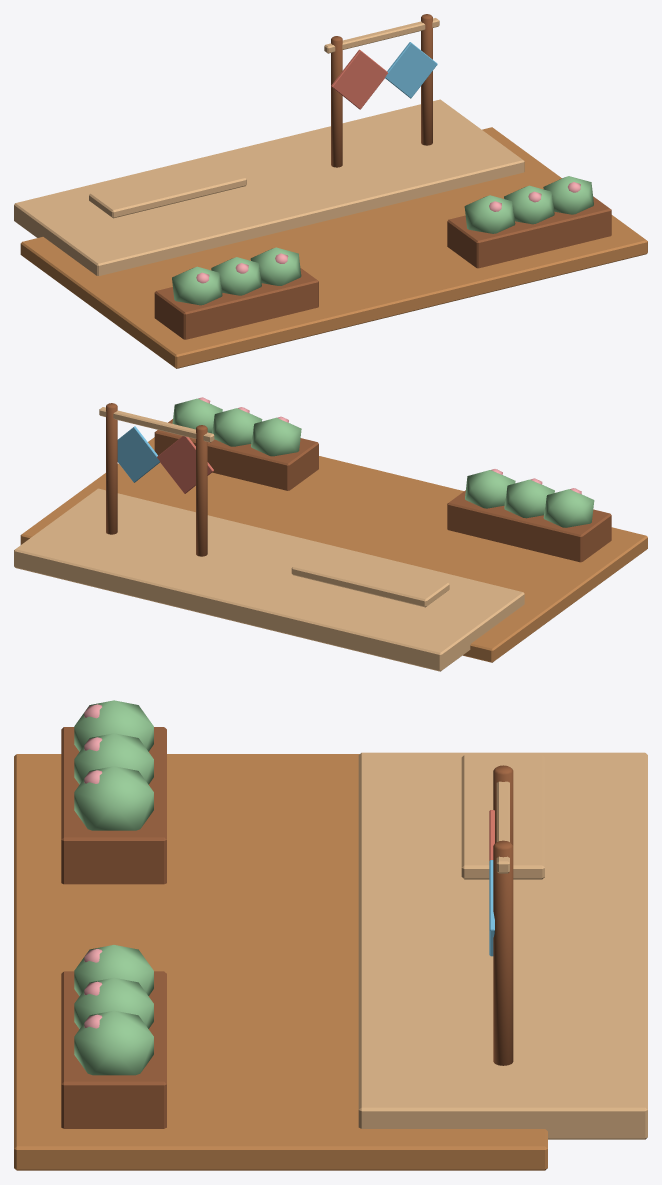
File: F29-kite-terrace-bench.glb
The picture shows the model from 3 angles, top to bottom: view 1: azimuth 30°, elevation 25°; view 2: azimuth 150°, elevation 25°; view 3: azimuth 270°, elevation 25°; orthographic projection. The views are drawn at different scales.
Visible parts, largest first — view 1: honey_wood, Lower_Deck, toasted_wood, sage_leaf, Kite_Coral, Kite_Blue, peach_blossom; view 2: honey_wood, Lower_Deck, toasted_wood, sage_leaf, Kite_Blue, Kite_Coral; view 3: Lower_Deck, honey_wood, toasted_wood, sage_leaf, peach_blossom.
Boxes of the visible parts, bbox=[...] form: honey_wood: bbox=[14, 18, 524, 275]; Lower_Deck: bbox=[20, 127, 647, 368]; toasted_wood: bbox=[154, 14, 611, 339]; sage_leaf: bbox=[172, 176, 593, 305]; Kite_Coral: bbox=[331, 49, 387, 109]; Kite_Blue: bbox=[385, 42, 437, 98]; peach_blossom: bbox=[196, 182, 580, 283]; honey_wood: bbox=[14, 407, 524, 671]; Lower_Deck: bbox=[20, 437, 647, 662]; toasted_wood: bbox=[106, 403, 611, 562]; sage_leaf: bbox=[172, 398, 594, 527]; Kite_Blue: bbox=[117, 426, 159, 482]; Kite_Coral: bbox=[157, 436, 213, 493]; Lower_Deck: bbox=[14, 754, 547, 1170]; honey_wood: bbox=[358, 752, 647, 1139]; toasted_wood: bbox=[61, 727, 513, 1128]; sage_leaf: bbox=[74, 700, 153, 1075]; peach_blossom: bbox=[84, 704, 102, 1028].
Bounding box in the file's own units: 8.4 × 2.6 × 5.7.
